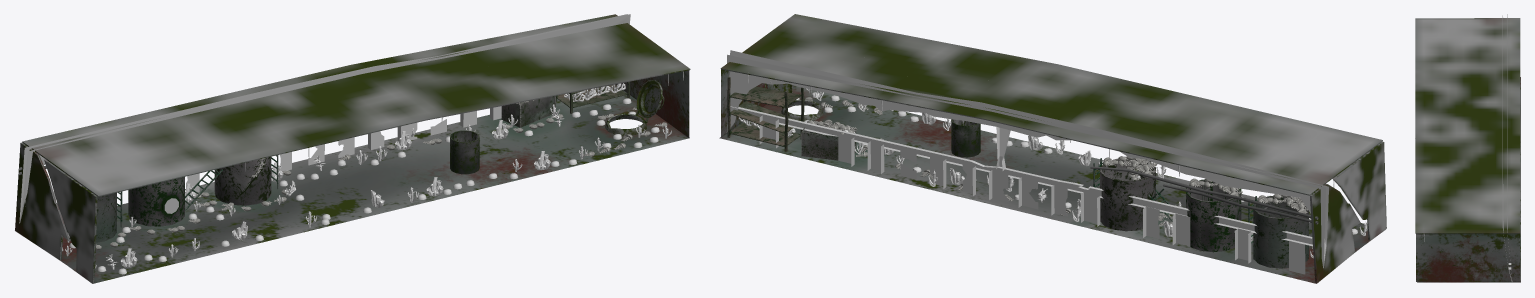
Rendered from salle3-4_v005.fbx.
The picture shows the model from 3 angles, left to right: view 1: azimuth 30°, elevation 25°; view 2: azimuth 150°, elevation 25°; view 3: azimuth 270°, elevation 25°; orthographic projection. The views are drawn at different scales.
Visible parts, largest first — view 1: salle4/4.002, salle4/4.003, salle4/4, fond, grossecuve3, grossecuve2, mousse1.045, salle4/4.001, algae3.001, fishs.036, ecoutille1, algae2.007 (+6 smaller); view 2: salle4/4.002, fond, salle4/4.003, salle4/4, grossecuve3, grossecuve2, etagaire, grossecuve2.001, fishs.036, tuyaux, cuve1, coffre.001 (+5 smaller); view 3: salle4/4.002, salle4/4.001, fond, salle4/4.003.
Boxes of the visible parts, x1,y1,x2,y2 form: salle4/4.002: [22, 14, 690, 196]; salle4/4.003: [15, 84, 689, 283]; salle4/4: [15, 142, 97, 283]; fond: [19, 14, 630, 223]; grossecuve3: [214, 156, 271, 205]; grossecuve2: [128, 177, 184, 226]; mousse1.045: [62, 98, 659, 274]; salle4/4.001: [615, 70, 689, 137]; algae3.001: [120, 120, 550, 267]; fishs.036: [96, 100, 667, 249]; ecoutille1: [605, 80, 664, 135]; algae2.007: [65, 104, 671, 268]; salle4/4.002: [720, 14, 1382, 195]; fond: [726, 50, 1328, 274]; salle4/4.003: [719, 85, 1385, 283]; salle4/4: [1310, 141, 1386, 283]; grossecuve3: [1100, 158, 1155, 231]; grossecuve2: [1186, 179, 1241, 252]; etagaire: [727, 77, 804, 151]; grossecuve2.001: [1253, 196, 1308, 268]; fishs.036: [805, 97, 1312, 248]; tuyaux: [1090, 166, 1318, 224]; cuve1: [951, 119, 980, 157]; coffre.001: [801, 124, 856, 160]; salle4/4.002: [1415, 18, 1520, 233]; salle4/4.001: [1416, 233, 1520, 281]; fond: [1502, 14, 1512, 282]; salle4/4.003: [1417, 77, 1520, 282].
Bounding box in the file's own units: 3115 × 461 × 670.
